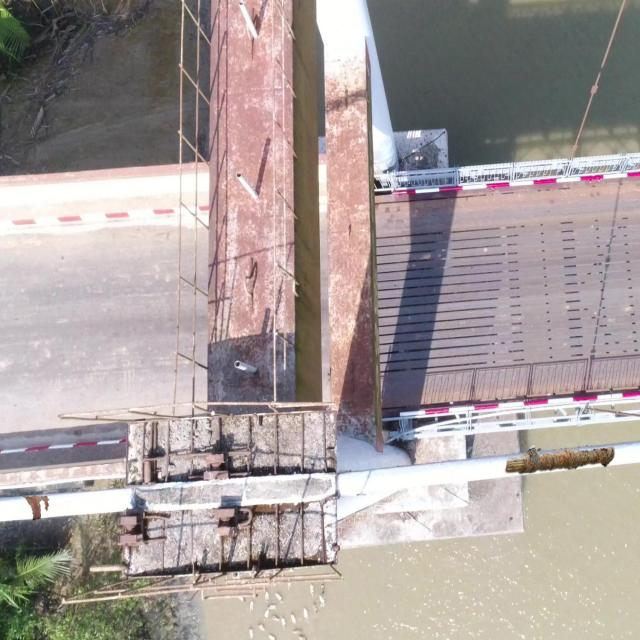corrosion: (504, 446, 616, 475), (22, 495, 49, 520)
